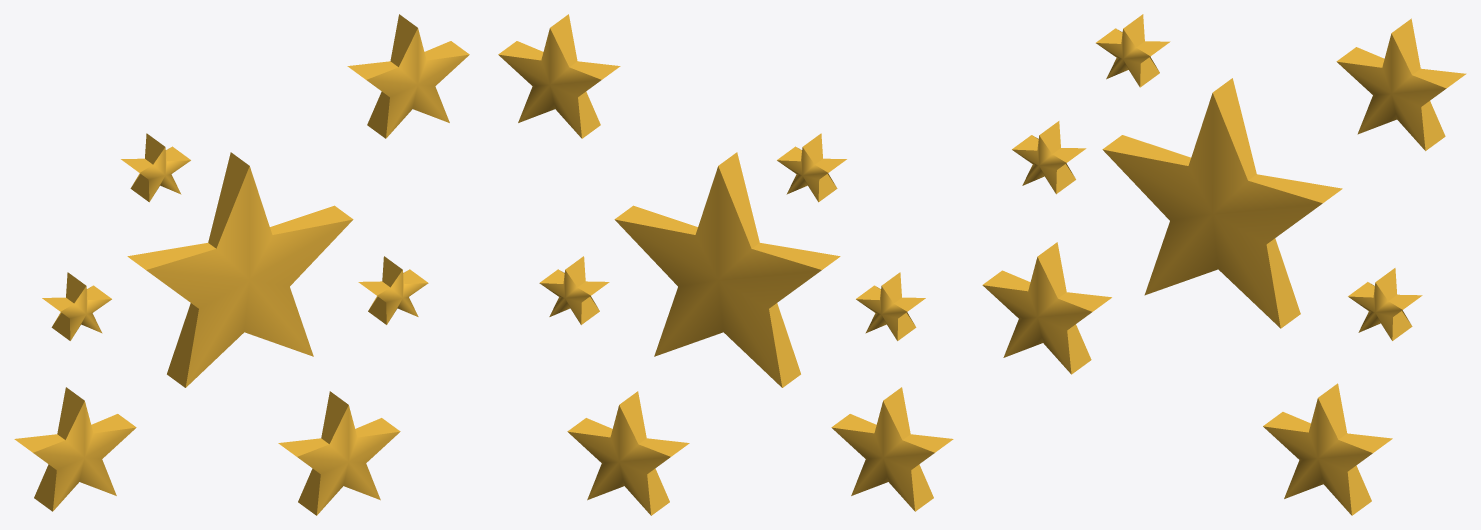
Rendered from stars.gltf.
The picture shows the model from 3 angles, left to right: view 1: azimuth 30°, elevation 25°; view 2: azimuth 150°, elevation 25°; view 3: azimuth 330°, elevation 25°; orthographic projection. The views are drawn at different scales.
Parts seen in each view (by area): view 1: Star_1, Star_2.002, Star_2.001, Star_2, Star_3, Star_3.002, Star_3.001; view 2: Star_1, Star_2.002, Star_2.001, Star_2, Star_3, Star_3.002, Star_3.001; view 3: Star_1, Star_2.001, Star_2.002, Star_2, Star_3.001, Star_3.002, Star_3.
Boxes of the visible parts, box(x1,y1,x2,y2) form: Star_1: box(127, 152, 353, 387); Star_2.002: box(278, 391, 400, 515); Star_2.001: box(347, 14, 469, 138); Star_2: box(14, 387, 136, 511); Star_3: box(358, 256, 428, 324); Star_3.002: box(42, 272, 111, 340); Star_3.001: box(121, 133, 190, 202); Star_1: box(614, 152, 840, 387); Star_2.002: box(567, 391, 689, 515); Star_2.001: box(498, 14, 620, 138); Star_2: box(831, 387, 953, 511); Star_3: box(539, 256, 609, 324); Star_3.002: box(856, 272, 925, 340); Star_3.001: box(777, 133, 846, 202); Star_1: box(1102, 78, 1342, 328); Star_2.001: box(1336, 18, 1466, 150); Star_2.002: box(1263, 383, 1392, 515); Star_2: box(982, 242, 1111, 374); Star_3.001: box(1096, 14, 1170, 87); Star_3.002: box(1012, 121, 1086, 194); Star_3: box(1348, 268, 1422, 340).
Size of the model in its own units: 4 by 4.06 by 0.3.
